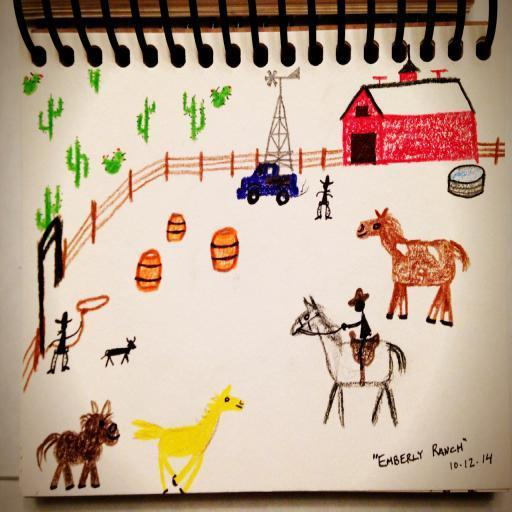horse: (290, 292, 408, 430), (356, 208, 472, 328), (132, 384, 244, 498), (36, 400, 120, 492)
